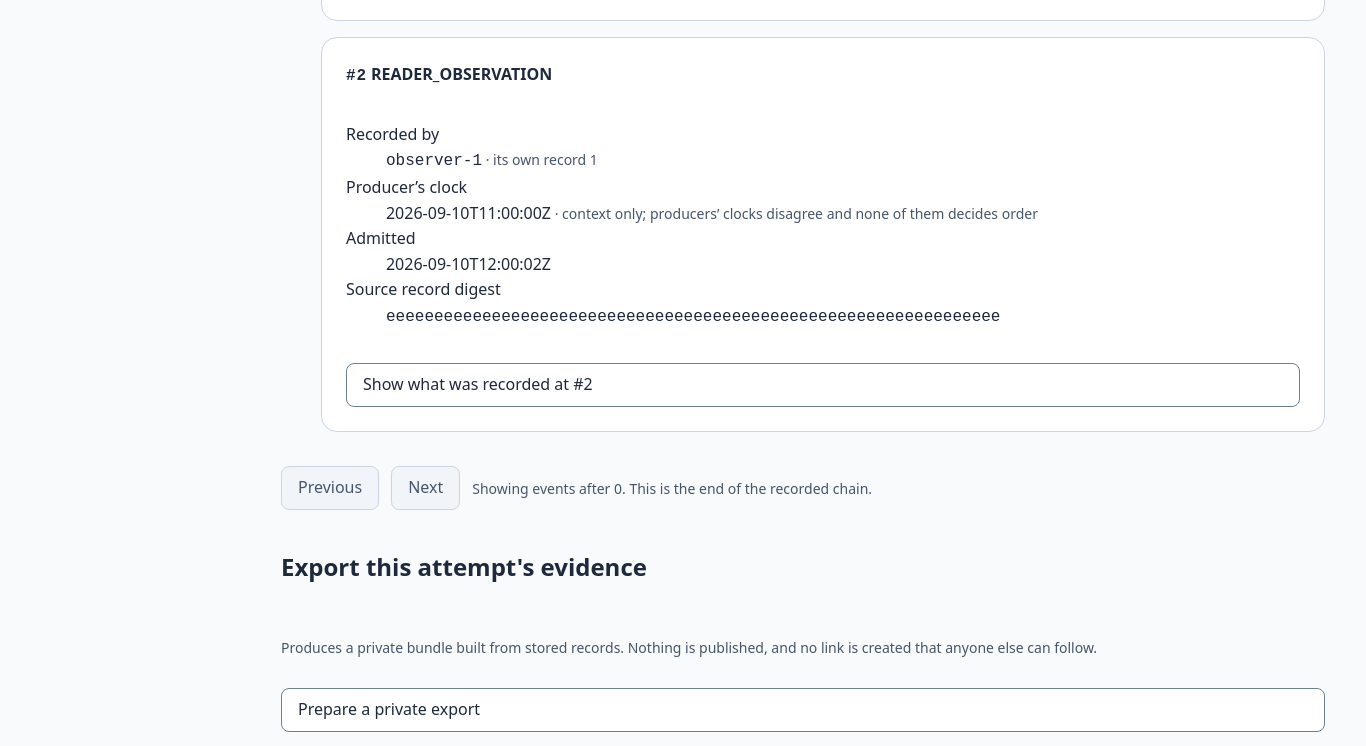
it: the evidence timeline › keeps the recorded payload behind a keyboard-operable disclosure
This screenshot has width=1366, height=746.
(page scrolled)
Click the button "Show what was recorded at #2" at coordinates (478, 384), box top-left (346, 363), bottom-right (1300, 407)
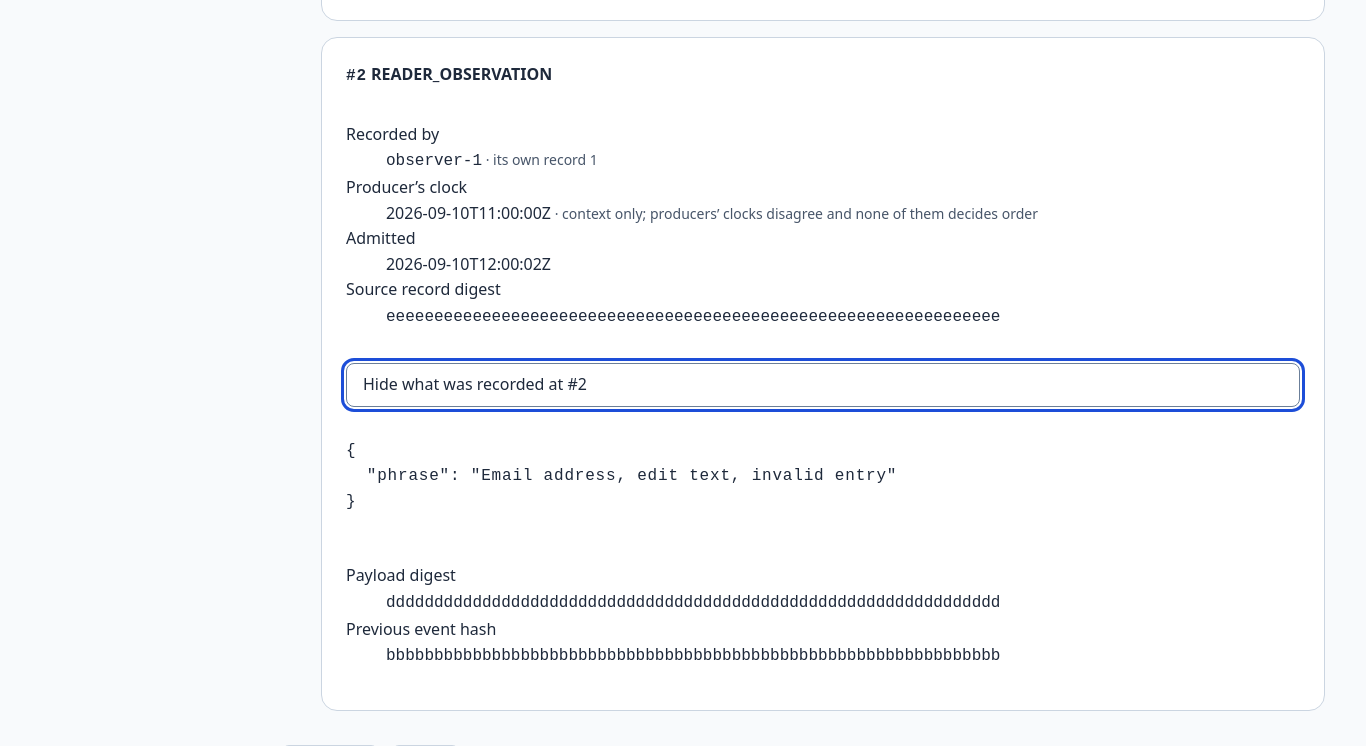
Expected: the button "Hide what was recorded at #2" is expanded, top-left (346, 363), bottom-right (1300, 407)
Expected: the text "{ \"phrase\": \"Email address, edit text, invalid entry\" }" is shown, top-left (346, 442), bottom-right (897, 511)
